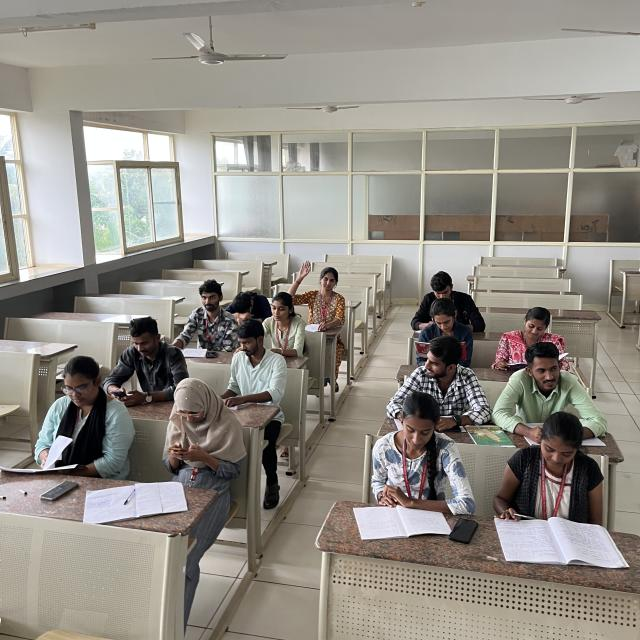Hand Rising: (290, 256, 348, 320)
Reading: (6, 356, 130, 480), (360, 399, 462, 537), (492, 308, 575, 378), (413, 298, 476, 356)
Sleeping: (227, 285, 276, 324)
Using Phone: (150, 373, 242, 477), (100, 312, 183, 404)
Writing: (494, 417, 604, 550)
